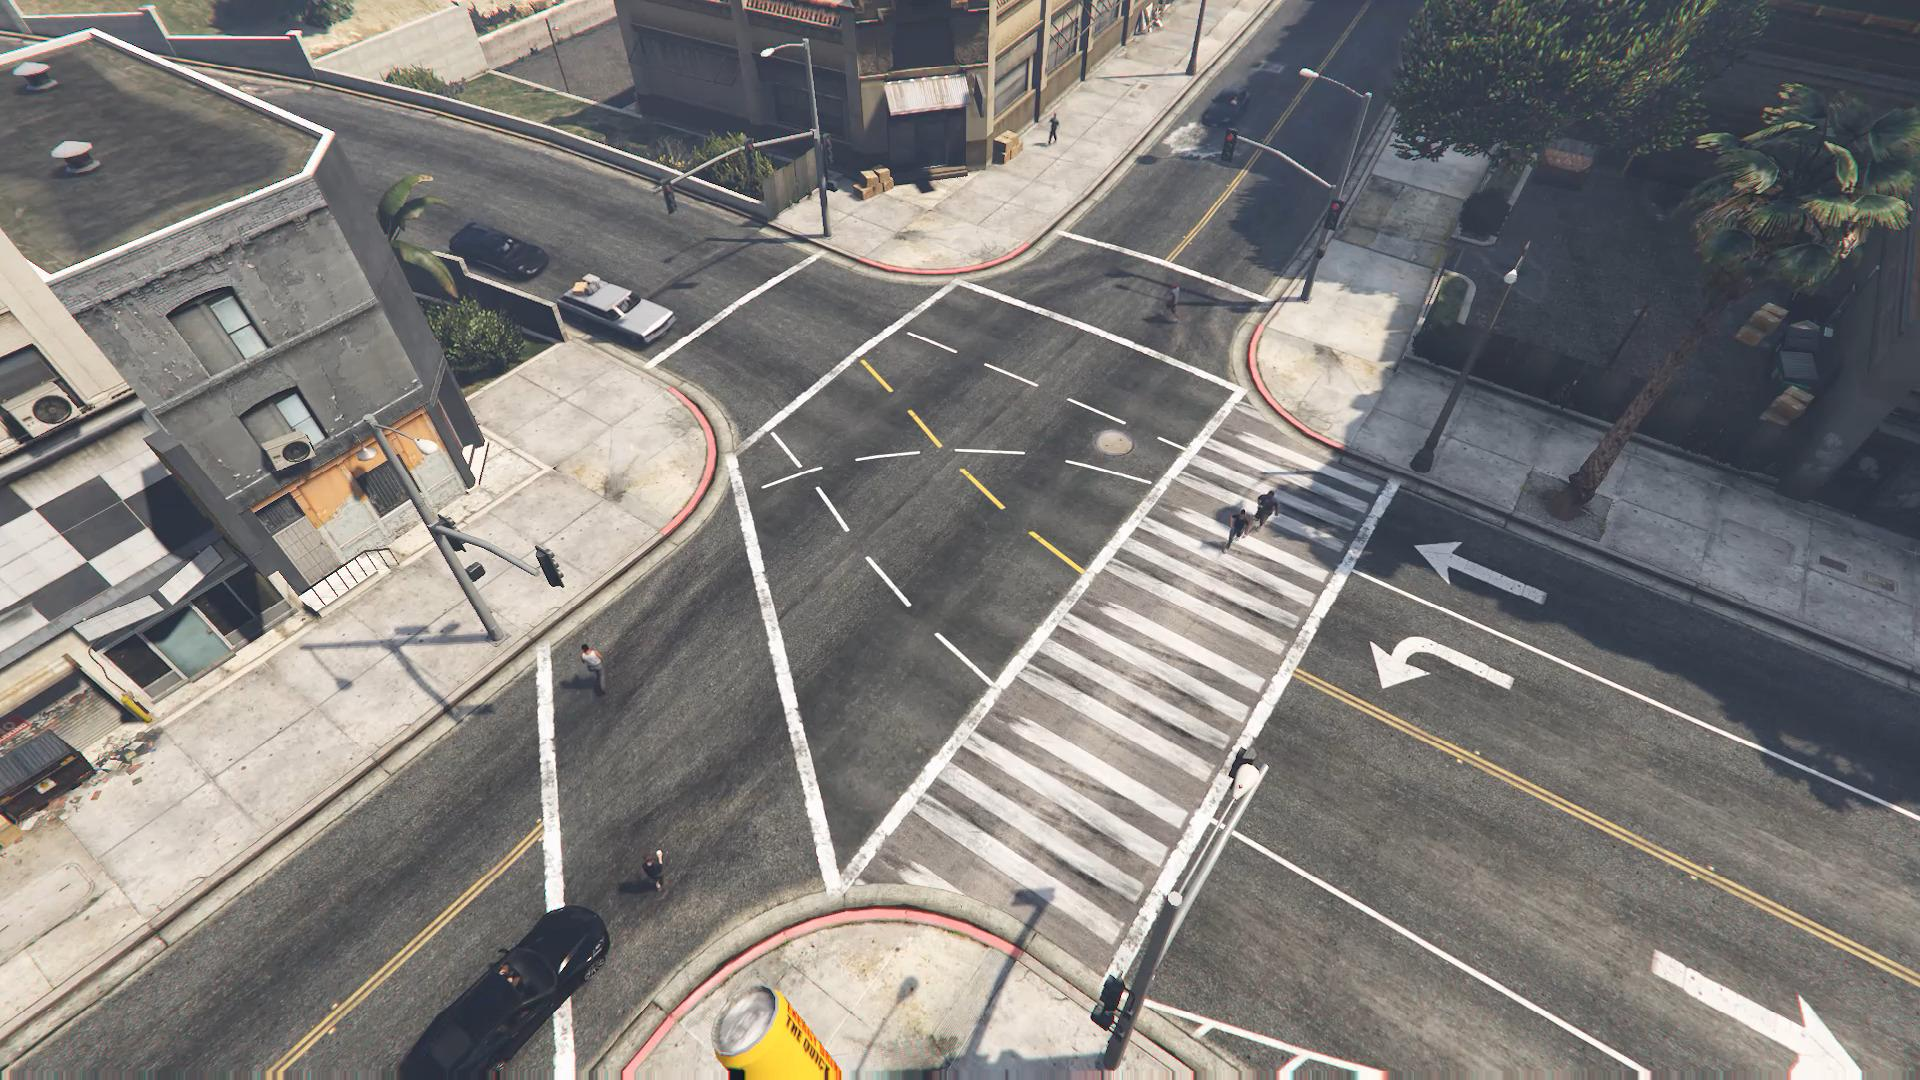car: (397, 905, 611, 1079), (556, 272, 675, 347), (447, 222, 549, 280)
